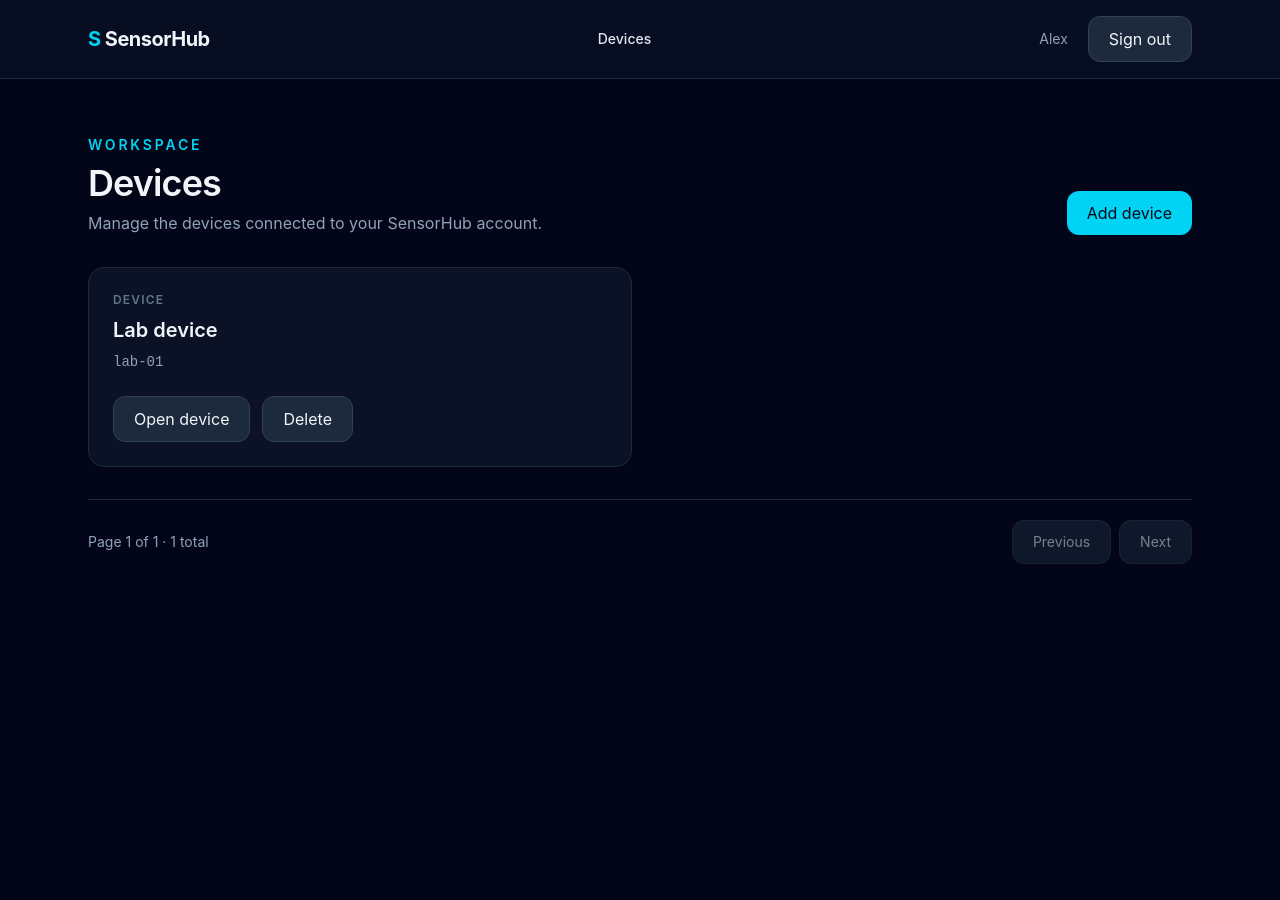
Test: Device dashboard › requires confirmation and handles a deletion conflict
The width and height of the screenshot is (1280, 900).
Click the button "Delete" at {"x": 308, "y": 419}, box [262, 396, 353, 442]
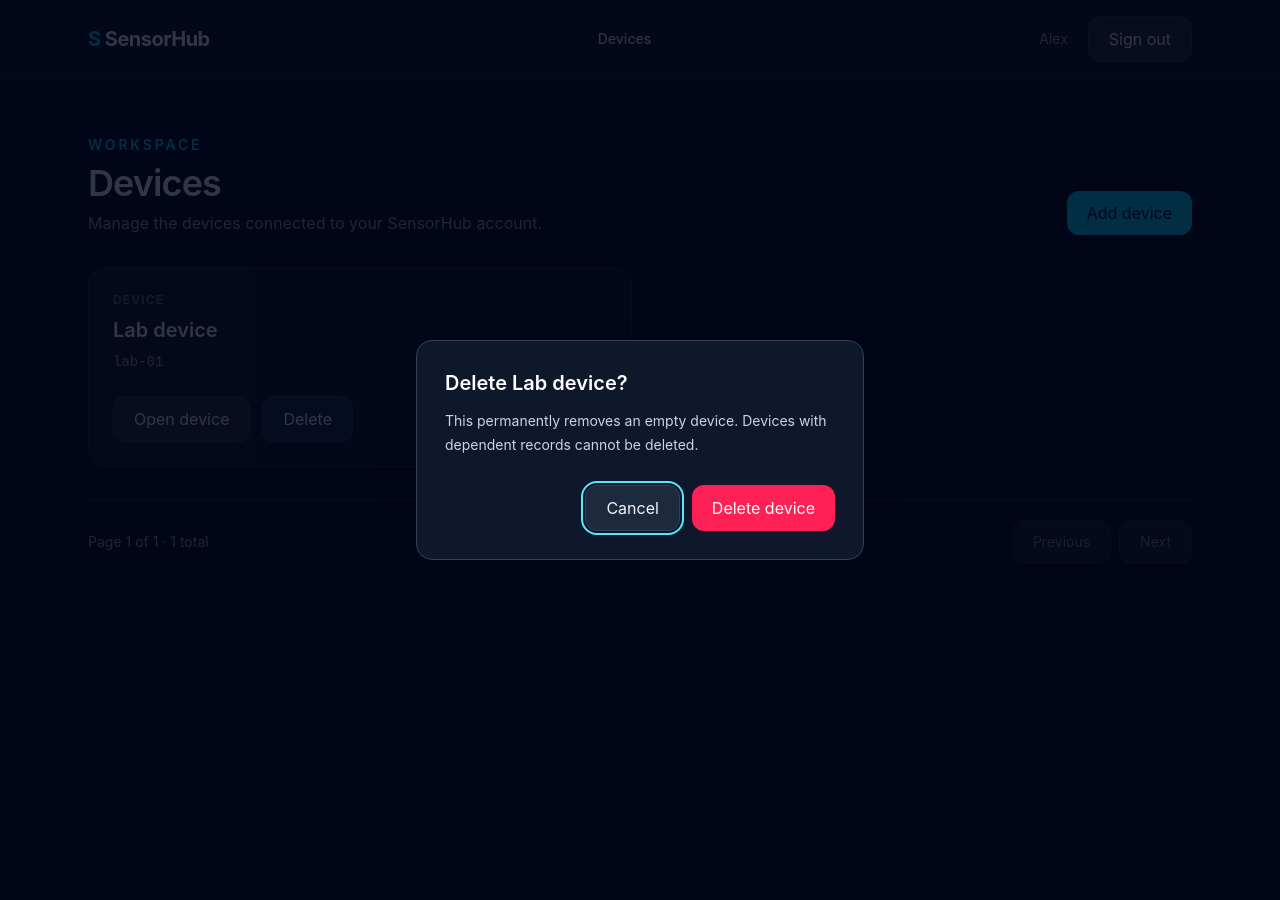
Click the button "Delete device" at {"x": 763, "y": 508}, box [692, 485, 835, 531]
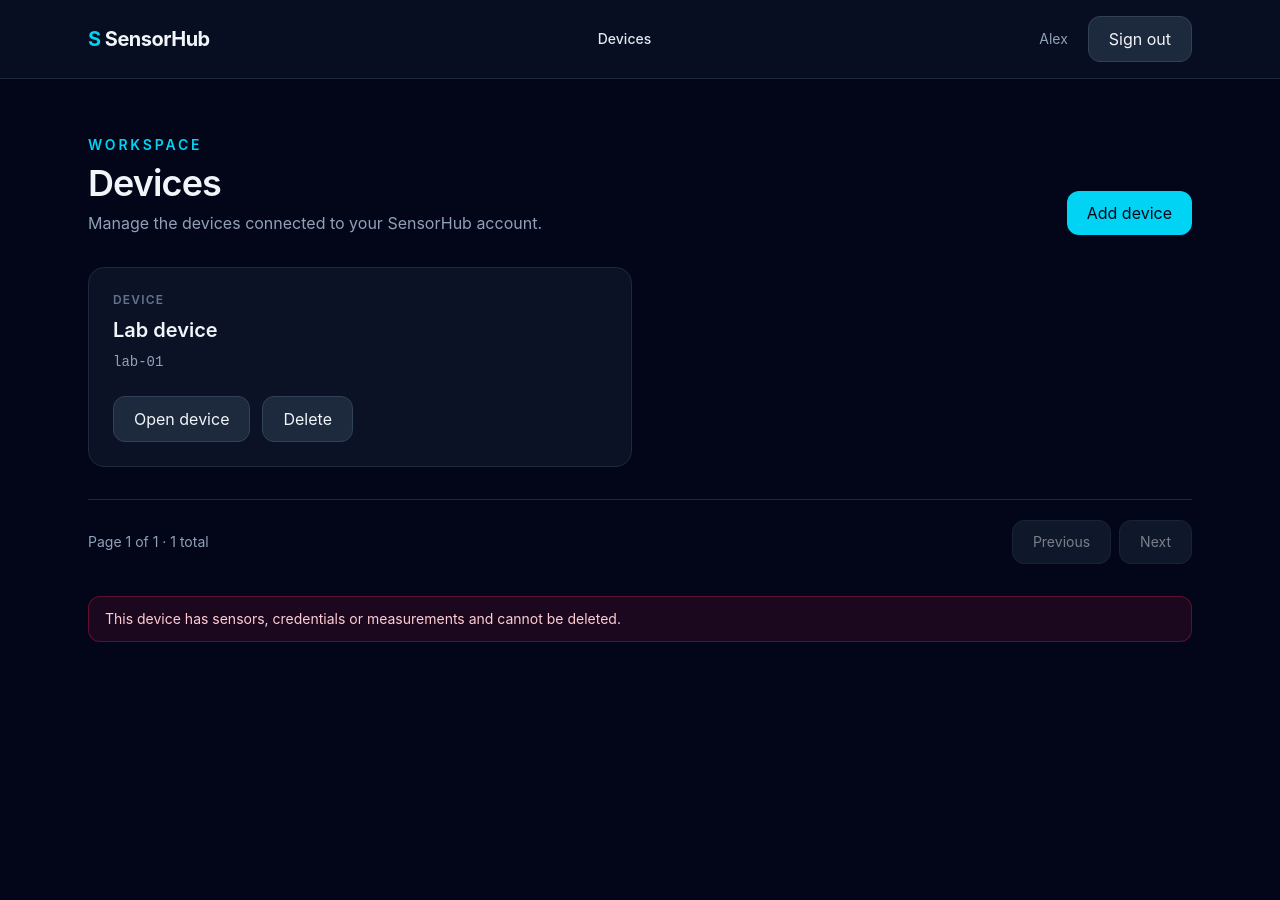
Result: the text "This device has sensors, credentials or measurements and cannot be deleted." is shown at [88, 596, 1192, 642]
